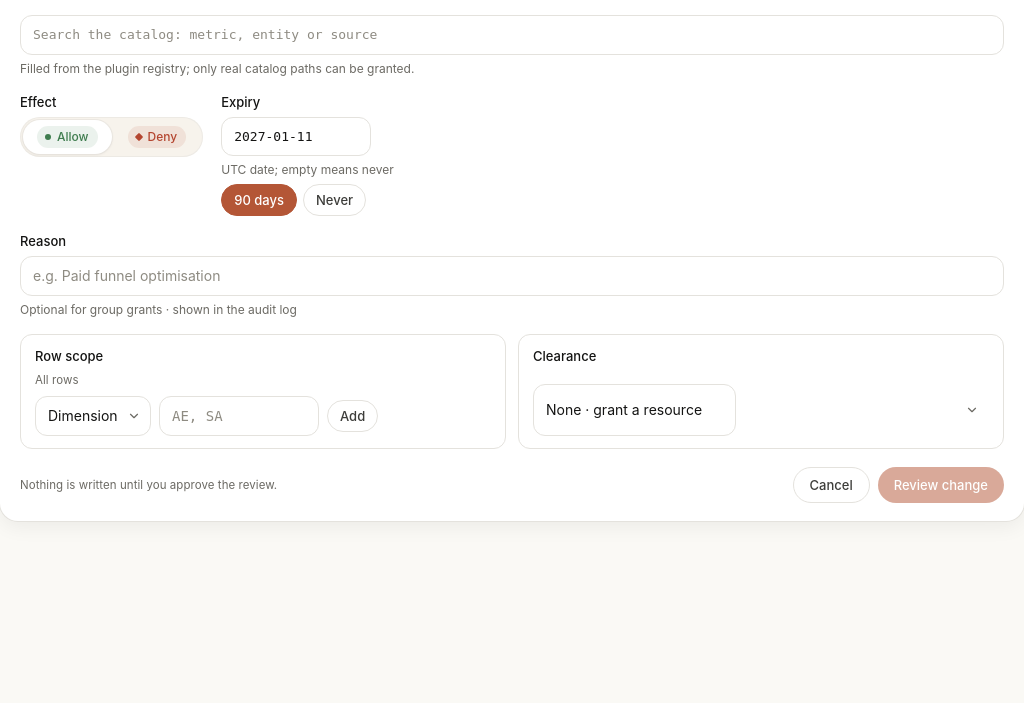
Test: GrantEditor › a duplicate grant (409) is final: the sentence, no Retry
Click the dropdown named "Target".
click(512, 35)  # box [20, 15, 1004, 54]
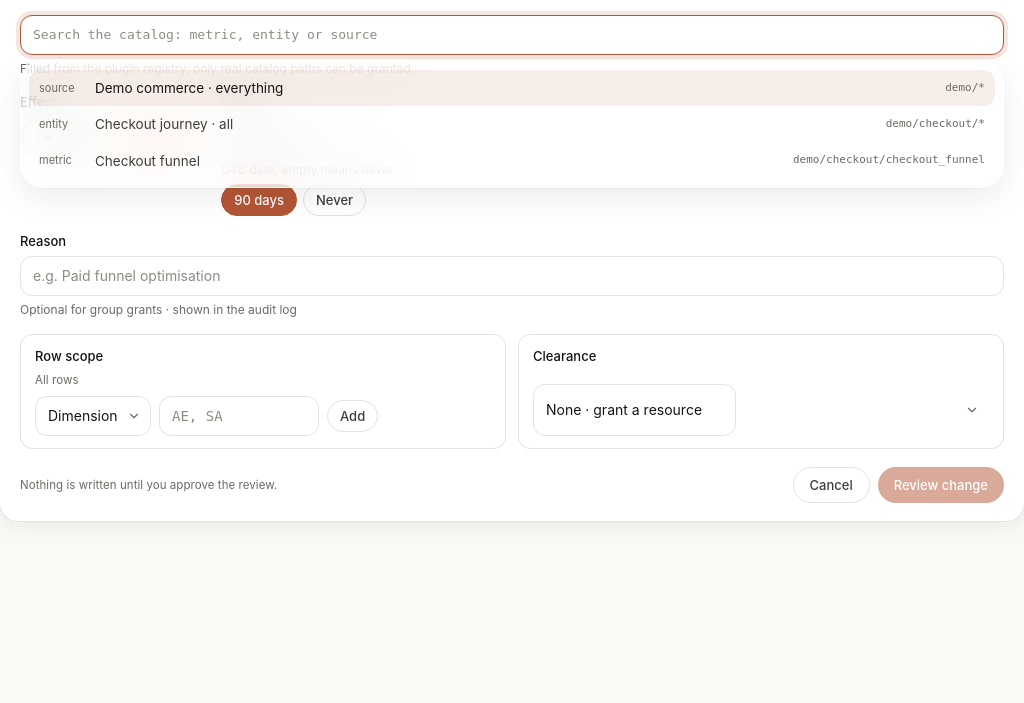
Type keys "checkout"
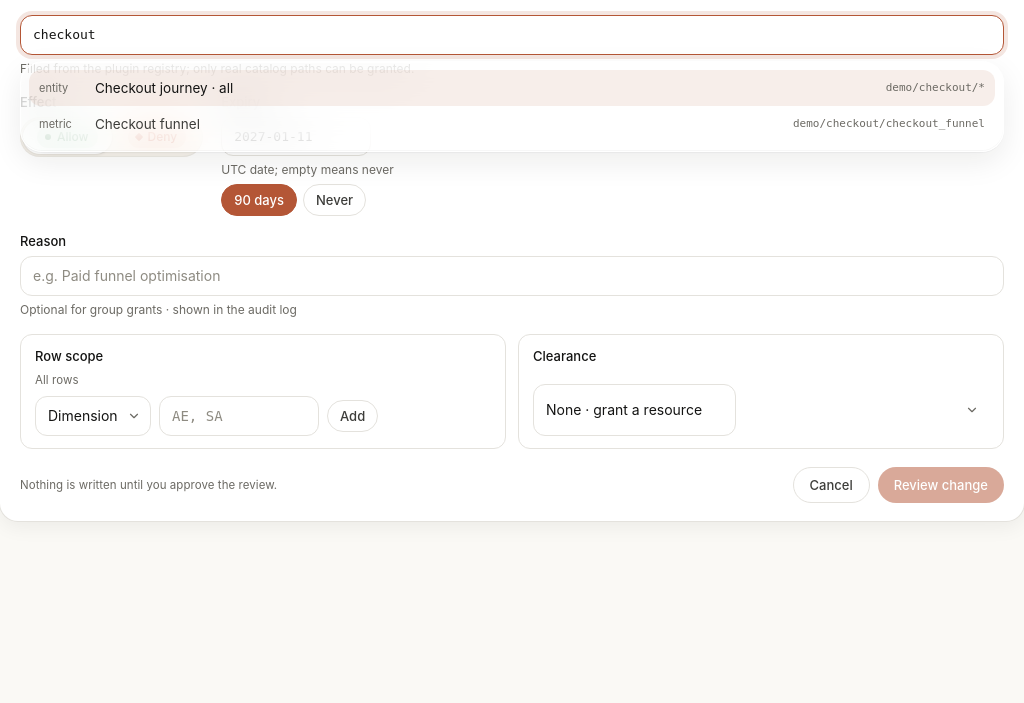
Click the option "entity Checkout journey · all demo/checkout/*".
click(164, 88)  # box [29, 70, 995, 106]
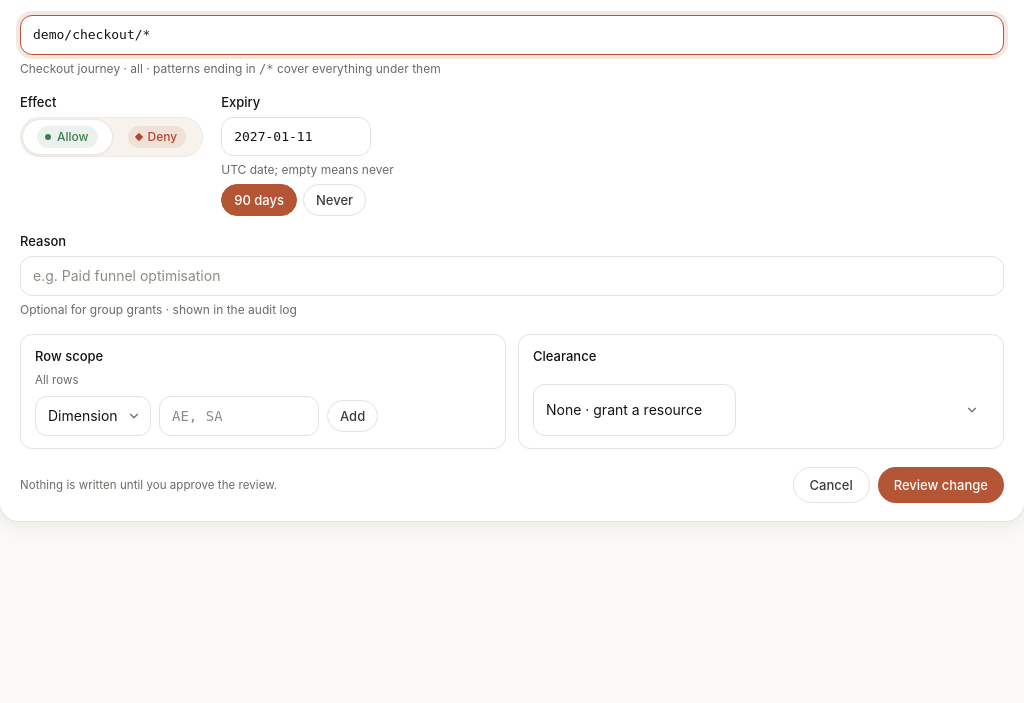
Click the button "Review change".
click(941, 485)  # box [878, 467, 1004, 503]
(page scrolled)
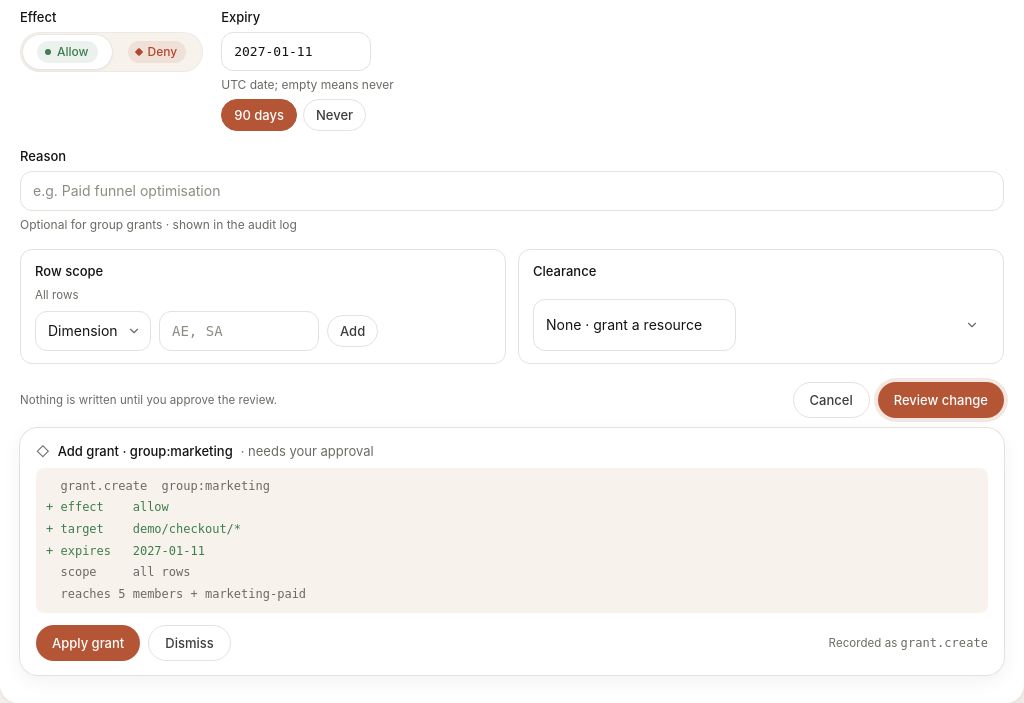
Click the button "Apply grant".
click(88, 643)  # box [36, 625, 140, 661]
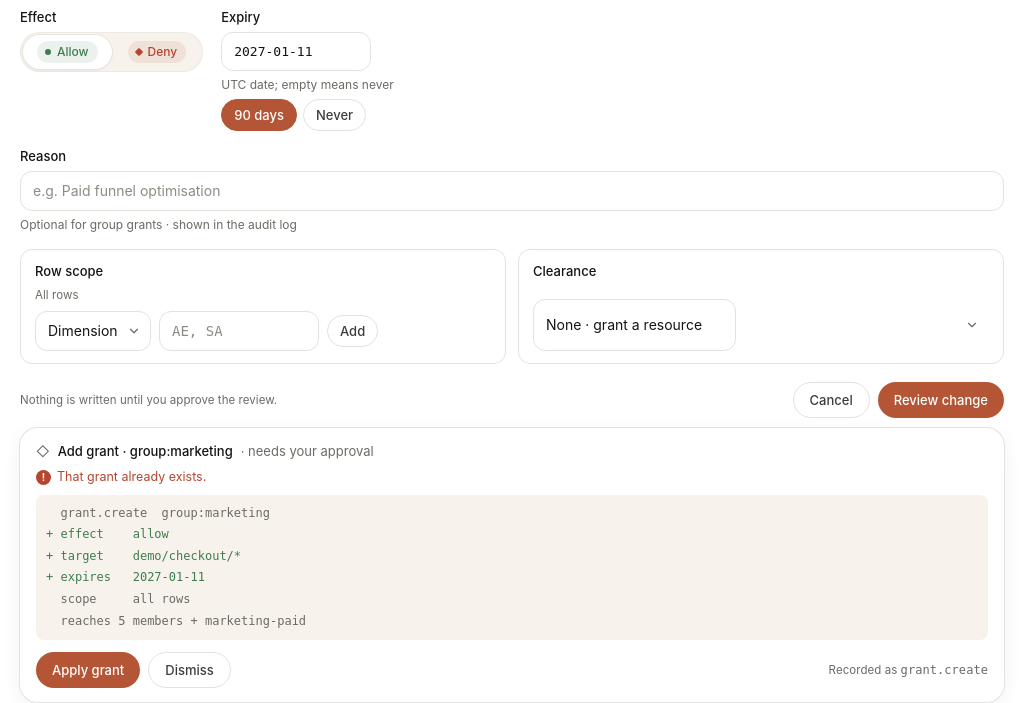
Now the text "That grant already exists." is shown, box [57, 469, 206, 484]
